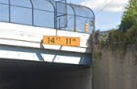1: (64, 35, 69, 46), (46, 35, 51, 44), (67, 37, 72, 45)
4: (49, 35, 55, 45)
overheadsign: (42, 34, 81, 47)
